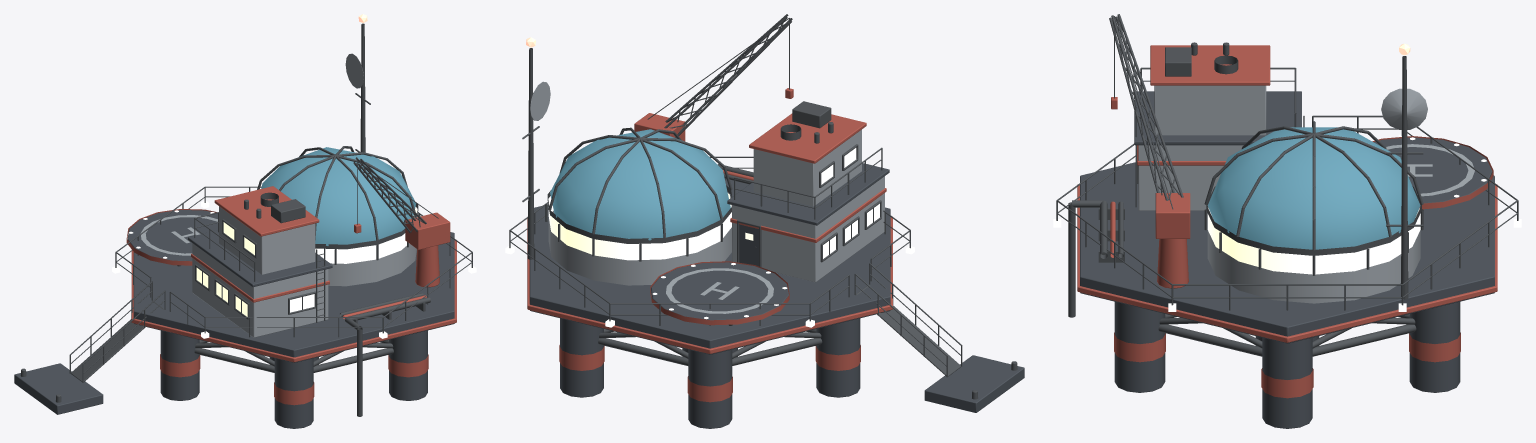
The model's file is habitat.glb.
The picture shows the model from 3 angles, left to right: view 1: azimuth 30°, elevation 25°; view 2: azimuth 150°, elevation 25°; view 3: azimuth 270°, elevation 25°; orthographic projection. The views are drawn at different scales.
Visible parts, largest first — view 1: habitat; view 2: habitat; view 3: habitat.
Boxes of the visible parts, <box> form: habitat: <box>14,14,476,428</box>; habitat: <box>505,14,1024,428</box>; habitat: <box>1053,14,1521,428</box>.
Size of the model in its own units: 23.61 by 15.55 by 17.6.
